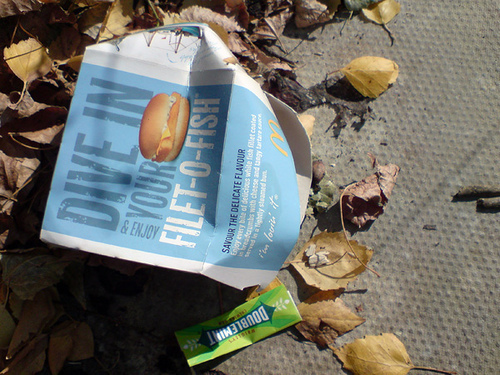litter: (37, 26, 313, 290), (171, 291, 301, 363)
